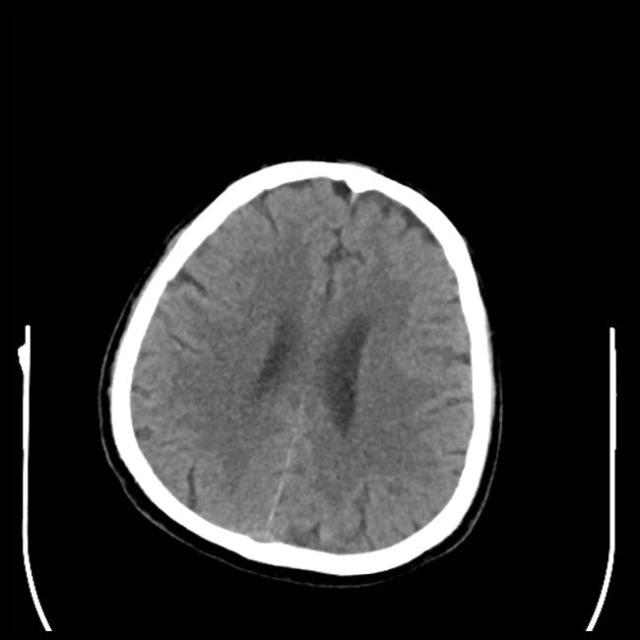lesion: (99, 156, 505, 580)
